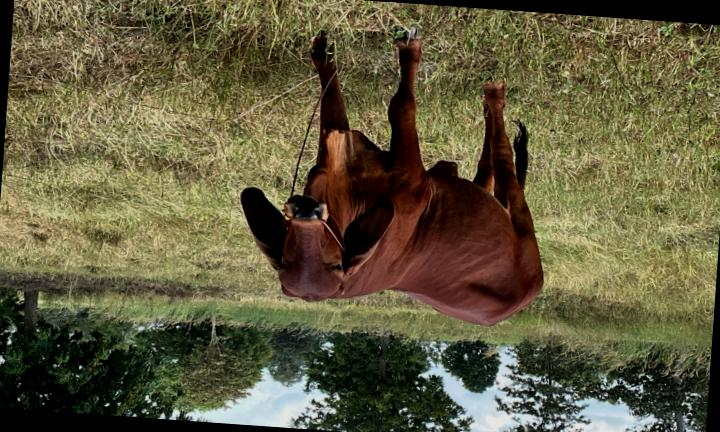Brahman: (242, 29, 543, 325)
